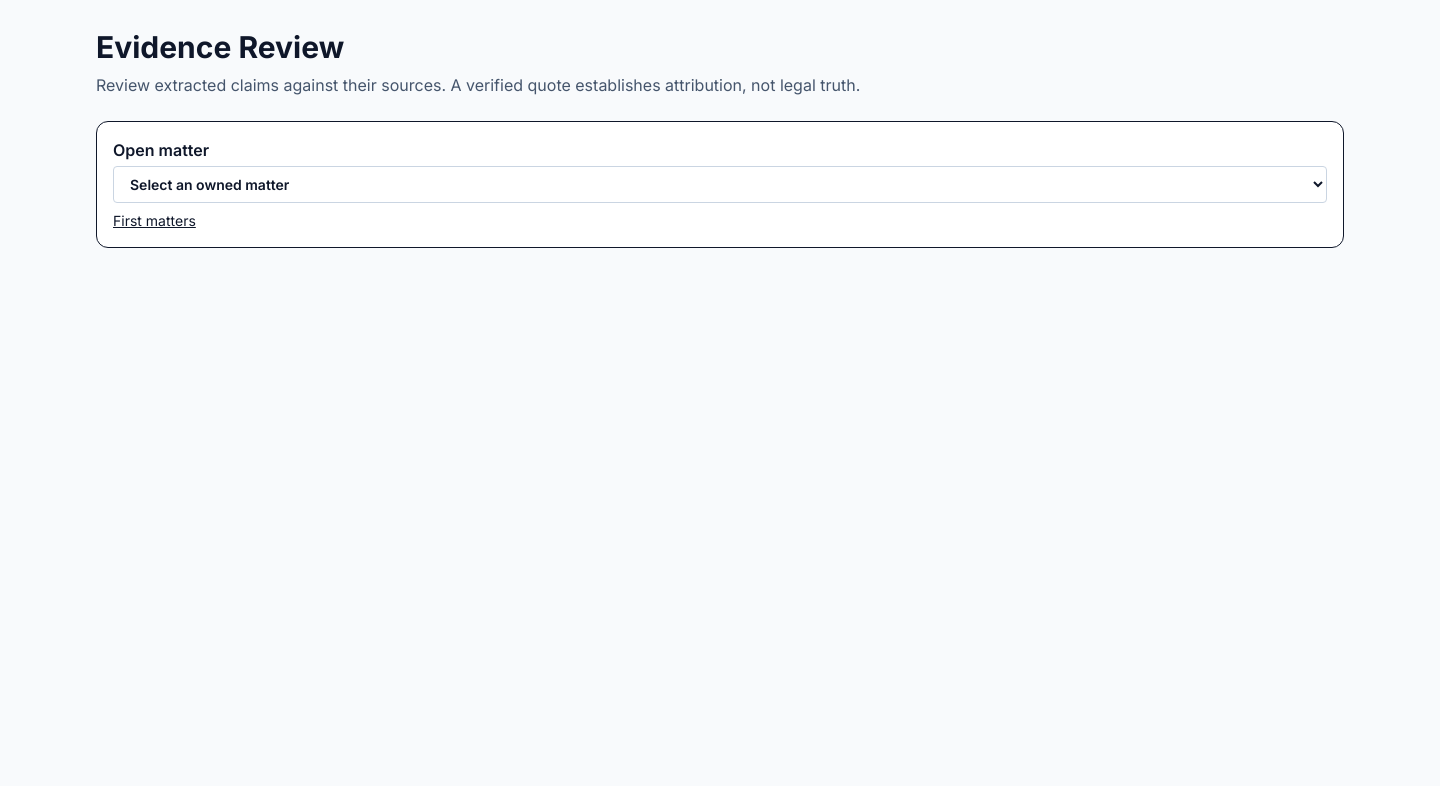
it: Stage 10 slice 5: AccessHistoryPanel inside EvidenceReviewWorkspace › shows the loading state, then every wired event type; an unknown type renders only a neutral label
Later steps or results of the test are not shown.
Step 1. Select "Matter A" in the dropdown labelled "Open matter" → (720, 184), box left=113, top=166, right=1327, bottom=203
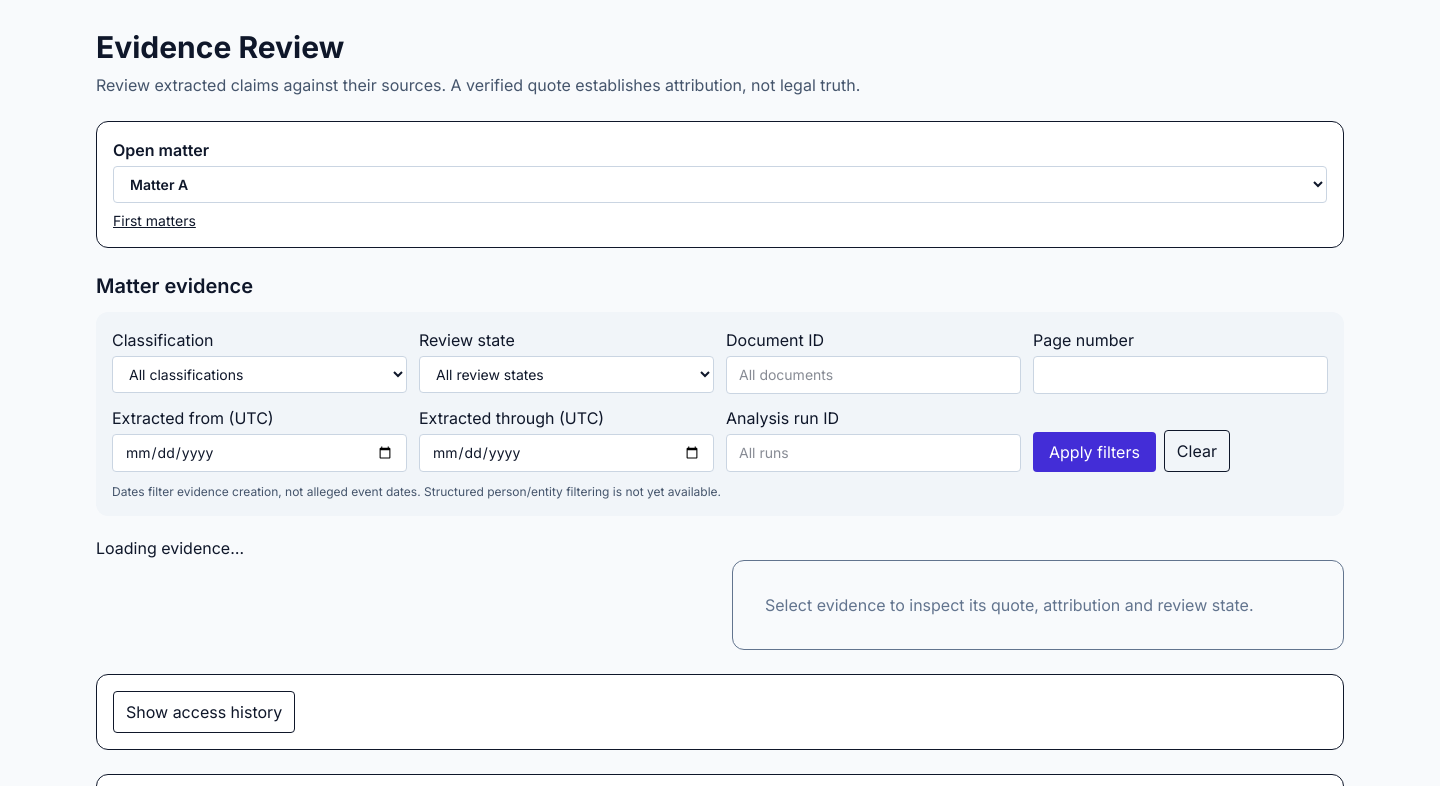
Step 2. Click the button "Show access history" → (204, 712), box left=113, top=691, right=295, bottom=733
(page scrolled)
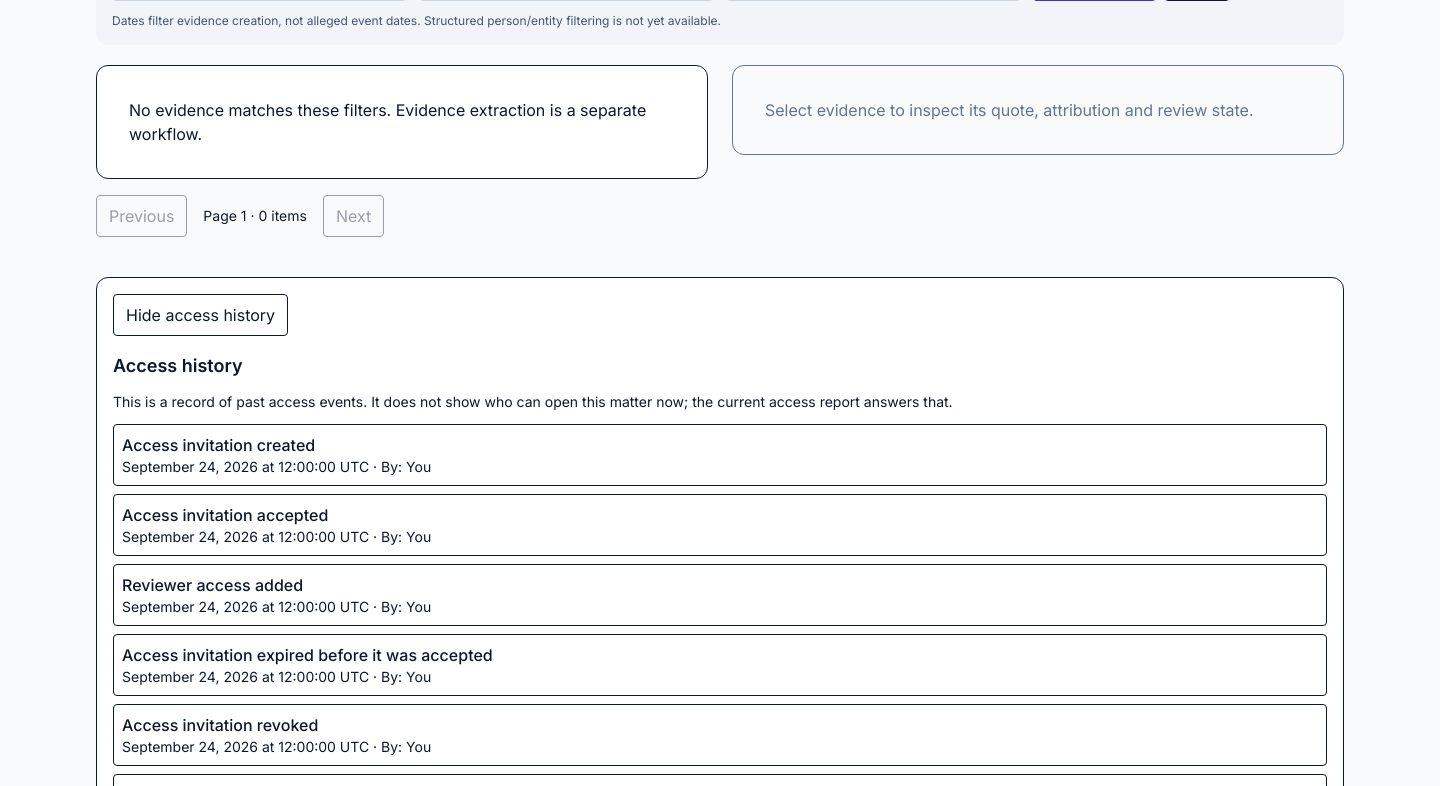
Check: the text "does not show who can open this matter now" is shown, box left=113, top=393, right=953, bottom=410
